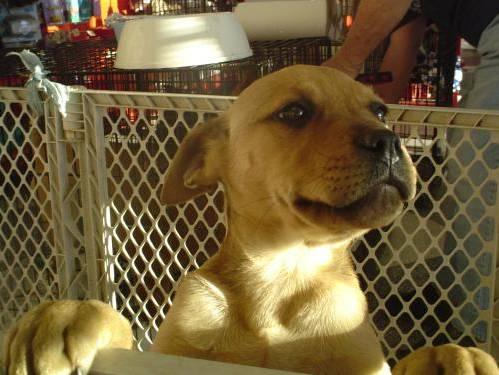dog: (153, 65, 417, 374)
